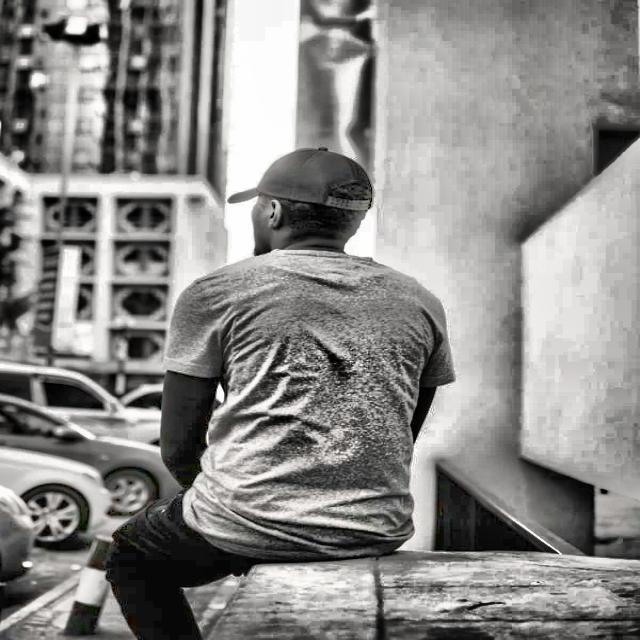Human: (99, 109, 457, 640)
